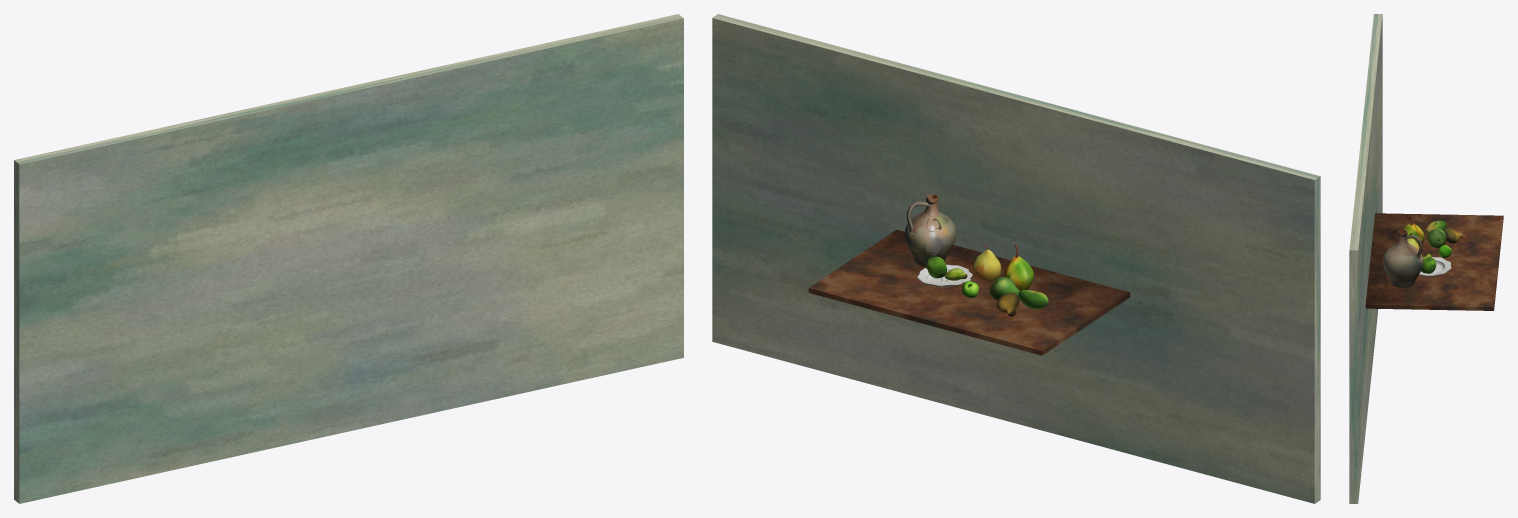
File: ours.glb
The picture shows the model from 3 angles, left to right: view 1: azimuth 30°, elevation 25°; view 2: azimuth 150°, elevation 25°; view 3: azimuth 270°, elevation 25°; orthographic projection. The views are drawn at different scales.
Parts seen in each view (by area): view 1: wall_0; view 2: wall_0, table_0, obj_jug_0, obj_pear_1, obj_pear_0; view 3: wall_0, table_0, obj_jug_0, obj_plate_0, obj_pear_2, obj_pear_1, obj_pear_3, obj_apple_0.
Boxes of the visible parts, <box> form: wall_0: <box>14,14,683,503</box>; wall_0: <box>712,14,1320,503</box>; table_0: <box>808,229,1130,355</box>; obj_jug_0: <box>904,194,956,266</box>; obj_pear_1: <box>1003,244,1033,290</box>; obj_pear_0: <box>973,245,1001,281</box>; wall_0: <box>1349,14,1382,503</box>; table_0: <box>1365,213,1503,310</box>; obj_jug_0: <box>1383,229,1423,287</box>; obj_plate_0: <box>1419,257,1451,276</box>; obj_pear_2: <box>1427,229,1446,248</box>; obj_pear_1: <box>1403,216,1424,246</box>; obj_pear_3: <box>1443,227,1462,243</box>; obj_apple_0: <box>1421,257,1436,273</box>.
Size of the model in its own units: 3.2 by 1.6 by 0.8811.
Materials: 12 (12 with a texture image).
